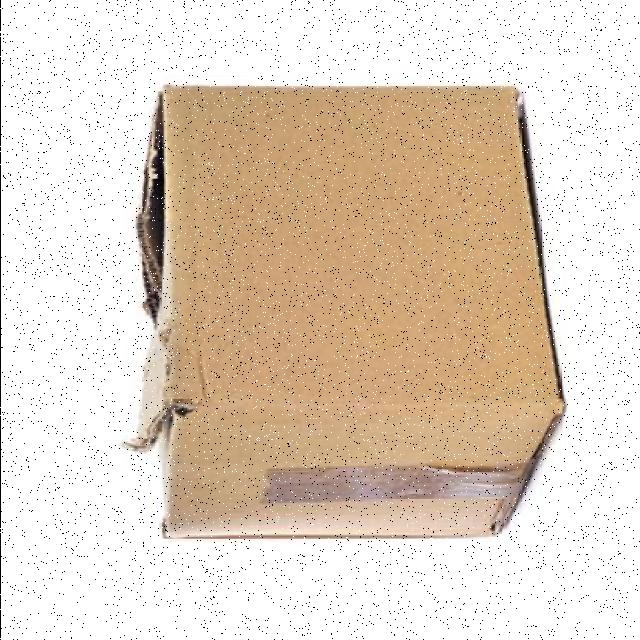defect: (110, 75, 564, 551)
